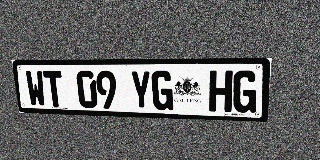0: (76, 71, 98, 108)
9: (95, 71, 118, 109)
G: (232, 71, 258, 113), (151, 71, 173, 111)
H: (209, 71, 233, 112)
T: (43, 71, 65, 107)
W: (25, 71, 47, 107)
Y: (130, 71, 152, 110)
